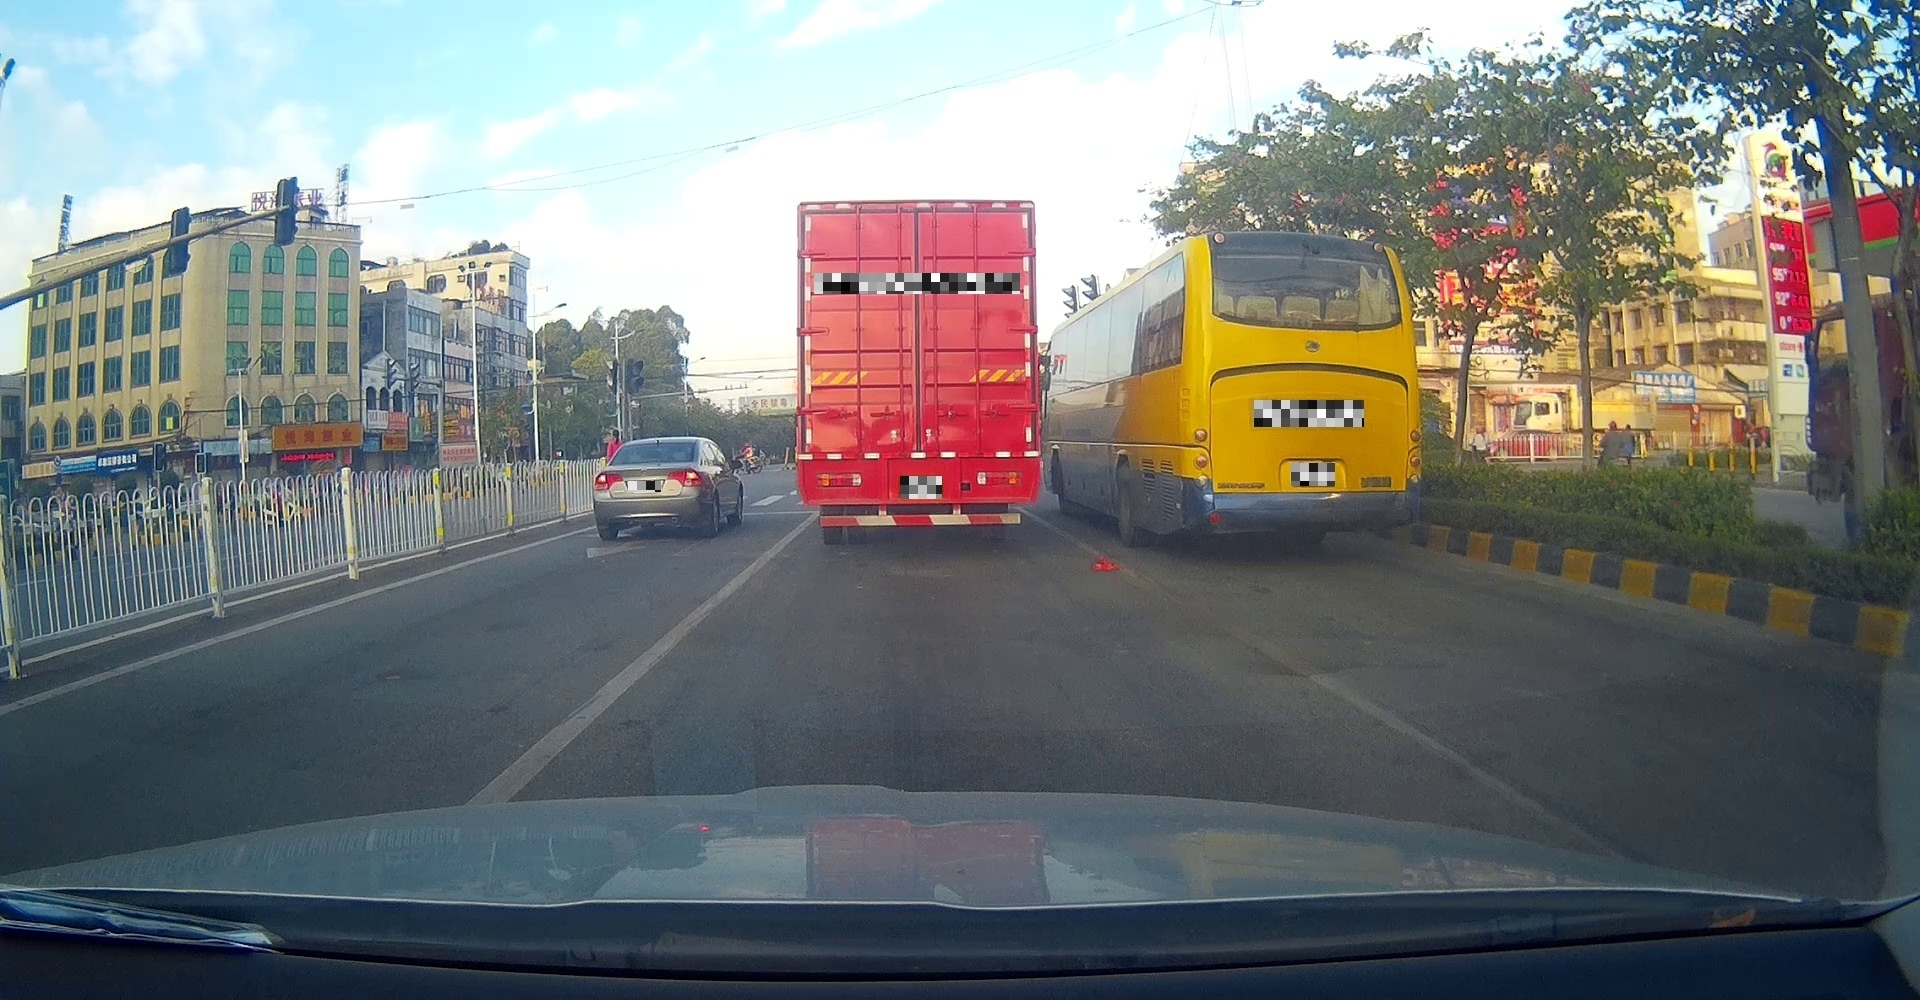L_light: (1194, 428, 1211, 490), (817, 472, 862, 489), (594, 475, 623, 491)
R_light: (977, 470, 1023, 487), (1410, 429, 1422, 485), (669, 470, 705, 487)
T_light: (1297, 315, 1345, 330), (902, 209, 933, 222), (648, 444, 672, 451)
day-brake: (592, 435, 709, 542)
day-no: (797, 201, 1043, 544), (1190, 232, 1421, 556)
plate_1: (629, 481, 662, 492)
plate_2: (814, 273, 1020, 294)
plate_3: (900, 476, 942, 499)
plate_4: (1255, 400, 1364, 426)
plate_5: (1291, 463, 1335, 486)
